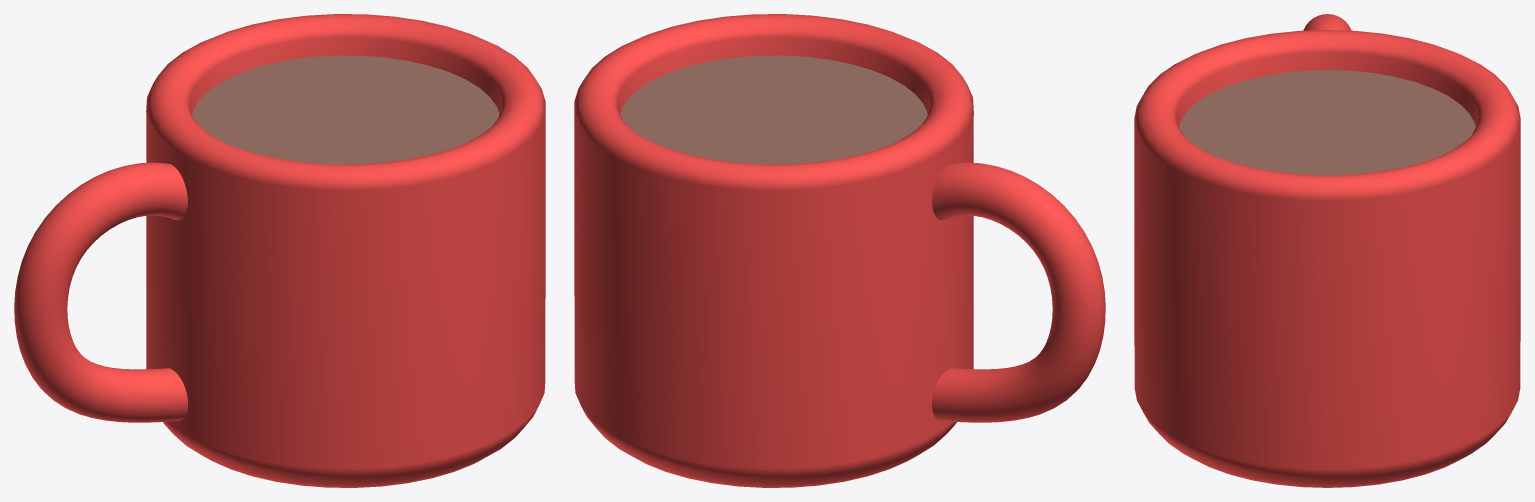
File: Store_18_Big_Cup_2.glb
3 views of the same model, side by side, from view 1: azimuth 30°, elevation 25°; view 2: azimuth 150°, elevation 25°; view 3: azimuth 270°, elevation 25° (orthographic). The views are drawn at different scales.
Parts seen in each view (by area): view 1: Store_18_Big_Cup_2; view 2: Store_18_Big_Cup_2; view 3: Store_18_Big_Cup_2.
Part boxes in pixels (x1,y1,x2,y2): Store_18_Big_Cup_2: (14,14,545,487); Store_18_Big_Cup_2: (574,14,1105,487); Store_18_Big_Cup_2: (1134,14,1520,487).
Bounding box in the file's own units: 1.52 × 0.9506 × 1.05.
1 material, 1 textured.
